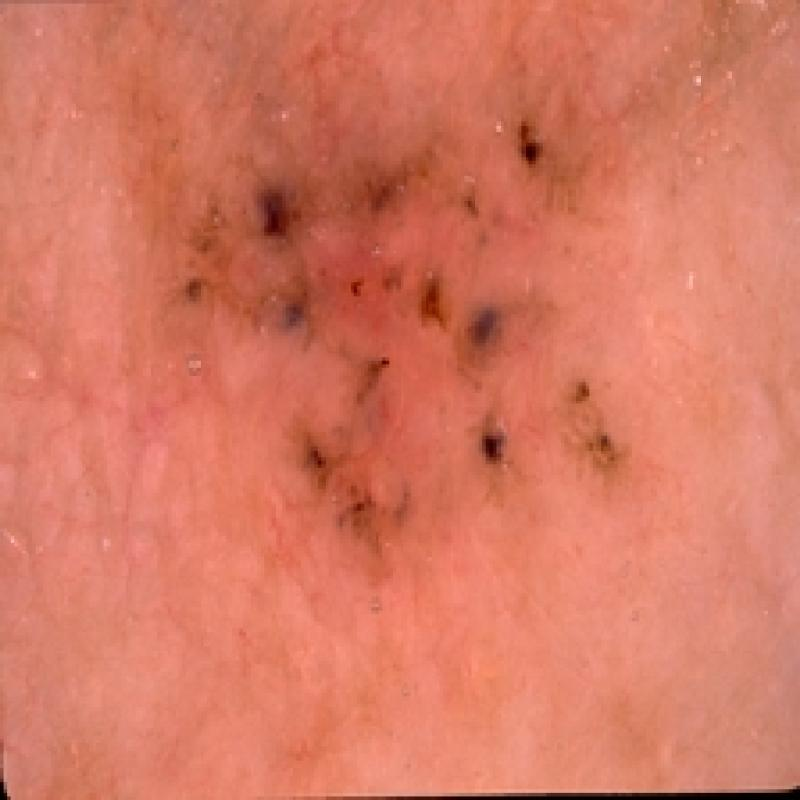malignant: (158, 68, 663, 565)
